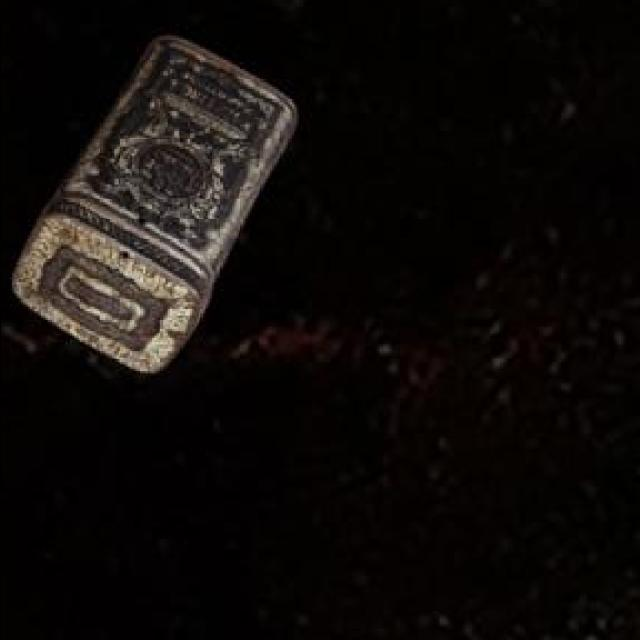logam: (14, 39, 297, 374)
